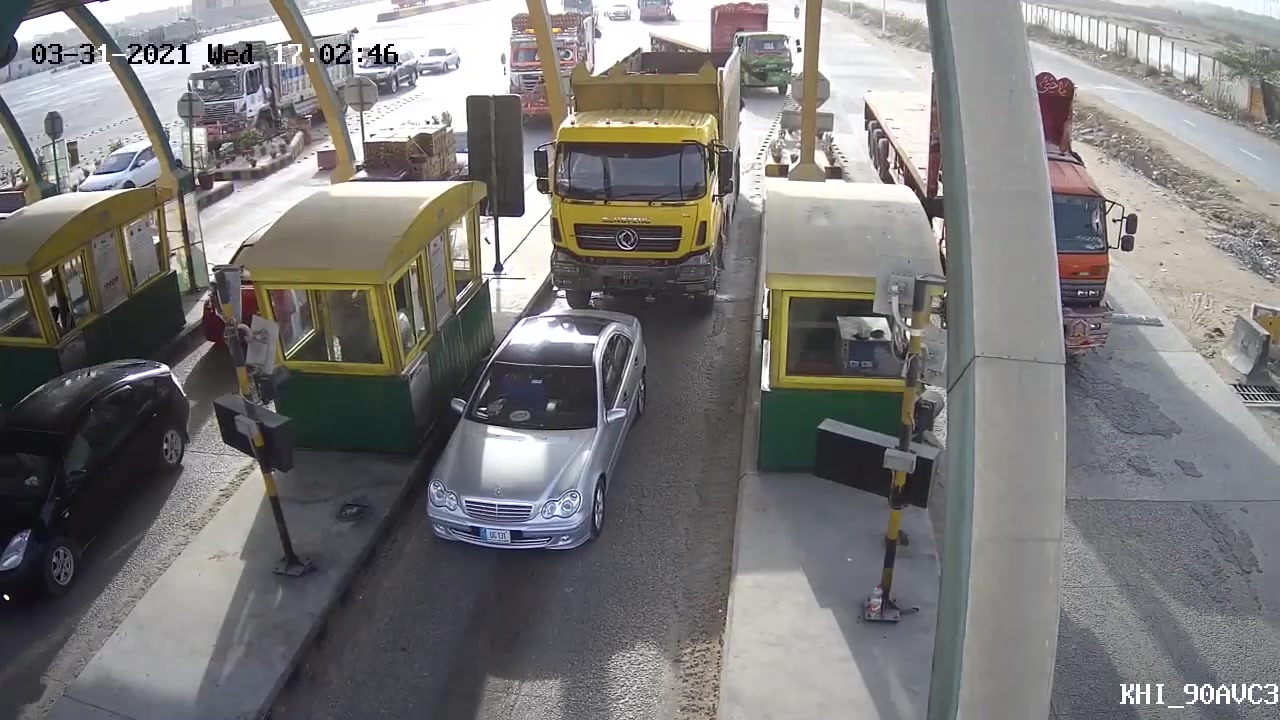F1: (417, 298, 656, 574)
F5: (545, 39, 752, 326)
